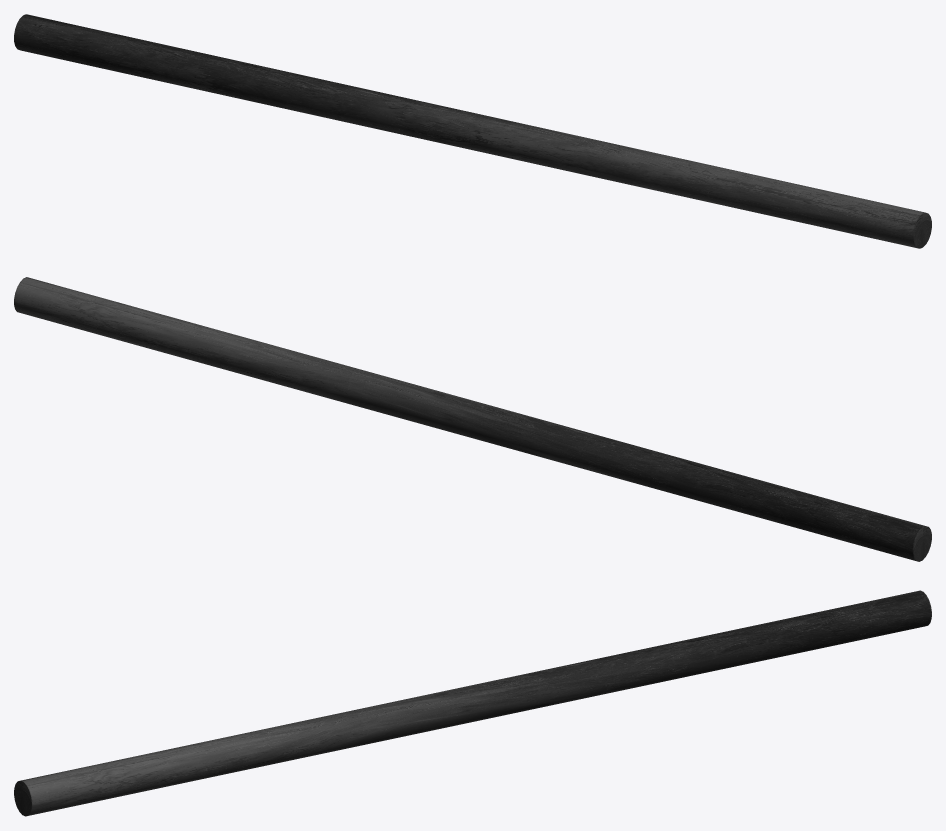
Rendered from noir13.FBX.
The picture shows the model from 3 angles, top to bottom: view 1: azimuth 30°, elevation 25°; view 2: azimuth 210°, elevation 25°; view 3: azimuth 270°, elevation 25°; orthographic projection.
Visible parts, largest first — view 1: Cylindre004; view 2: Cylindre004; view 3: Cylindre004.
Part boxes in pixels (box(x1,y1,x2,y2)): Cylindre004: box(14, 14, 931, 248); Cylindre004: box(14, 277, 931, 561); Cylindre004: box(14, 590, 931, 816).
Size of the model in its own units: 6.43 by 0.7644 by 10.91.
Materials: 1 (1 with a texture image).
